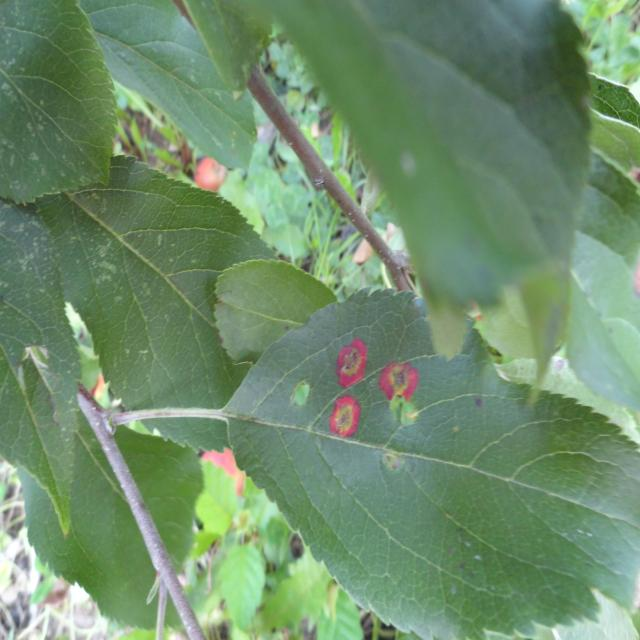rust: (224, 286, 639, 640)
